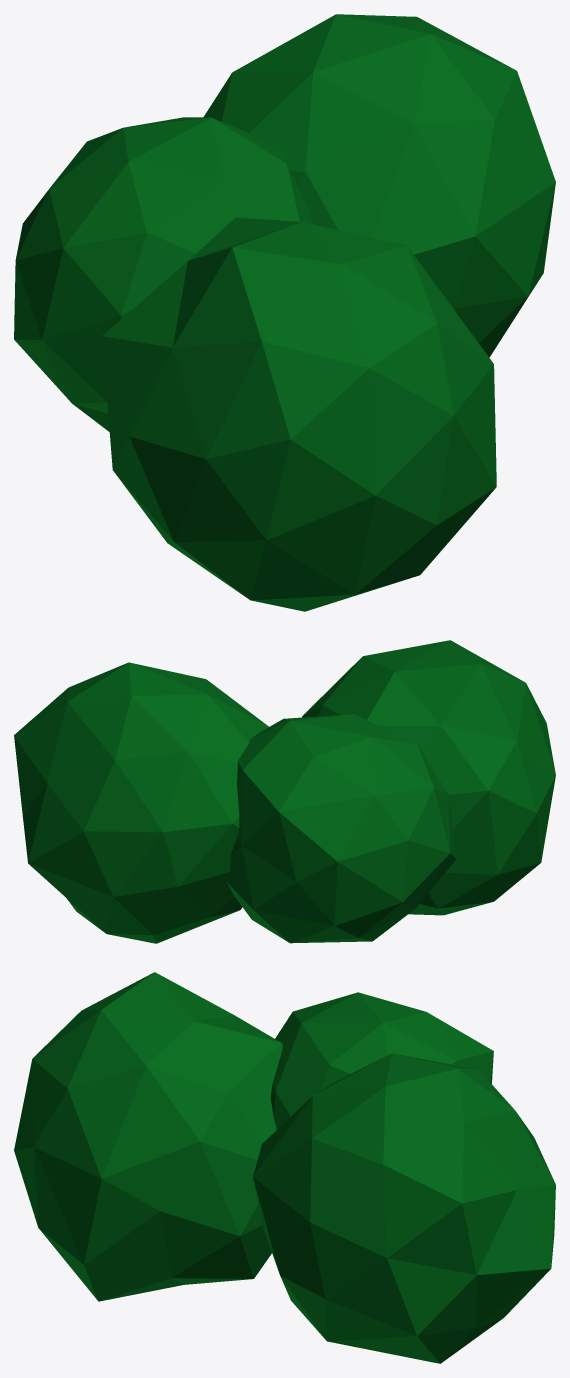
File: 240519_bush_bubbly_03.glb
The picture shows the model from 3 angles, top to bottom: view 1: azimuth 30°, elevation 25°; view 2: azimuth 150°, elevation 25°; view 3: azimuth 270°, elevation 25°; orthographic projection. The views are drawn at different scales.
Parts seen in each view (by area): view 1: Icosphere.013; view 2: Icosphere.013; view 3: Icosphere.013.
Boxes of the visible parts, box(x1,y1,x2,y2) form: Icosphere.013: box(14, 14, 555, 611); Icosphere.013: box(14, 640, 555, 943); Icosphere.013: box(14, 972, 555, 1363).
Bounding box in the file's own units: 1.63 × 1.13 × 1.76.
